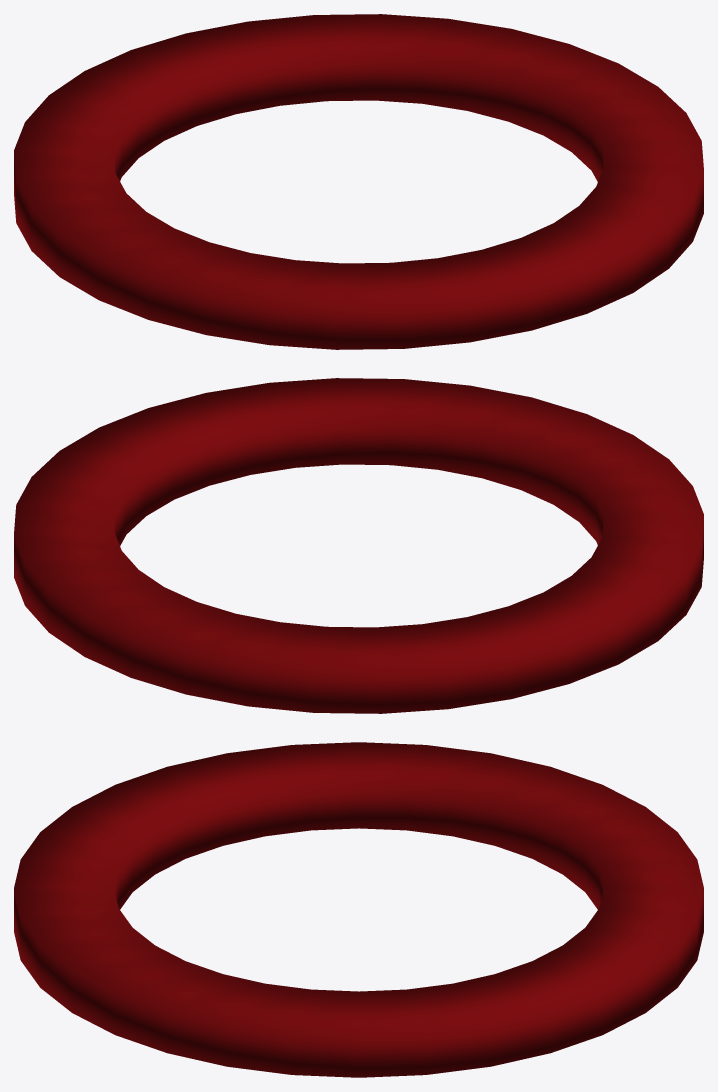
Rendered from PostitionMarker2.fbx.
The picture shows the model from 3 angles, top to bottom: view 1: azimuth 30°, elevation 25°; view 2: azimuth 150°, elevation 25°; view 3: azimuth 270°, elevation 25°; orthographic projection.
Visible parts, largest first — view 1: Circle; view 2: Circle; view 3: Circle.
Boxes of the visible parts, box(x1,y1,x2,y2) form: Circle: box(14, 14, 703, 349); Circle: box(14, 378, 703, 713); Circle: box(14, 742, 703, 1077).
Bounding box in the file's own units: 282 × 19.84 × 282.
